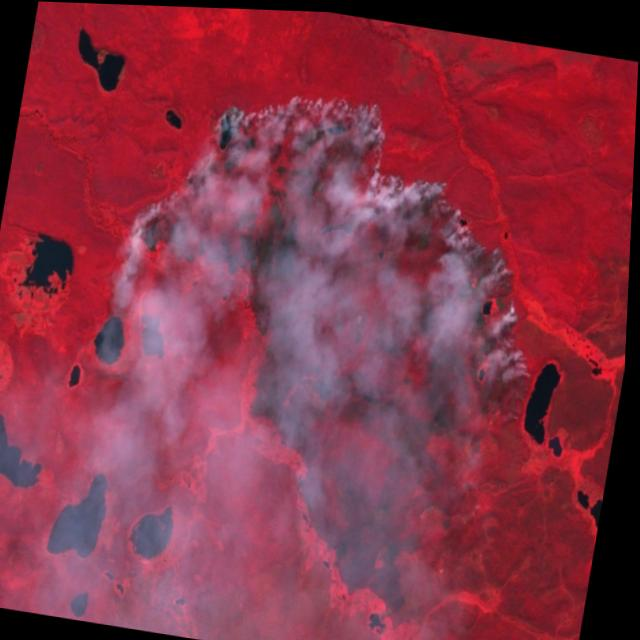fire: (100, 73, 574, 419)
